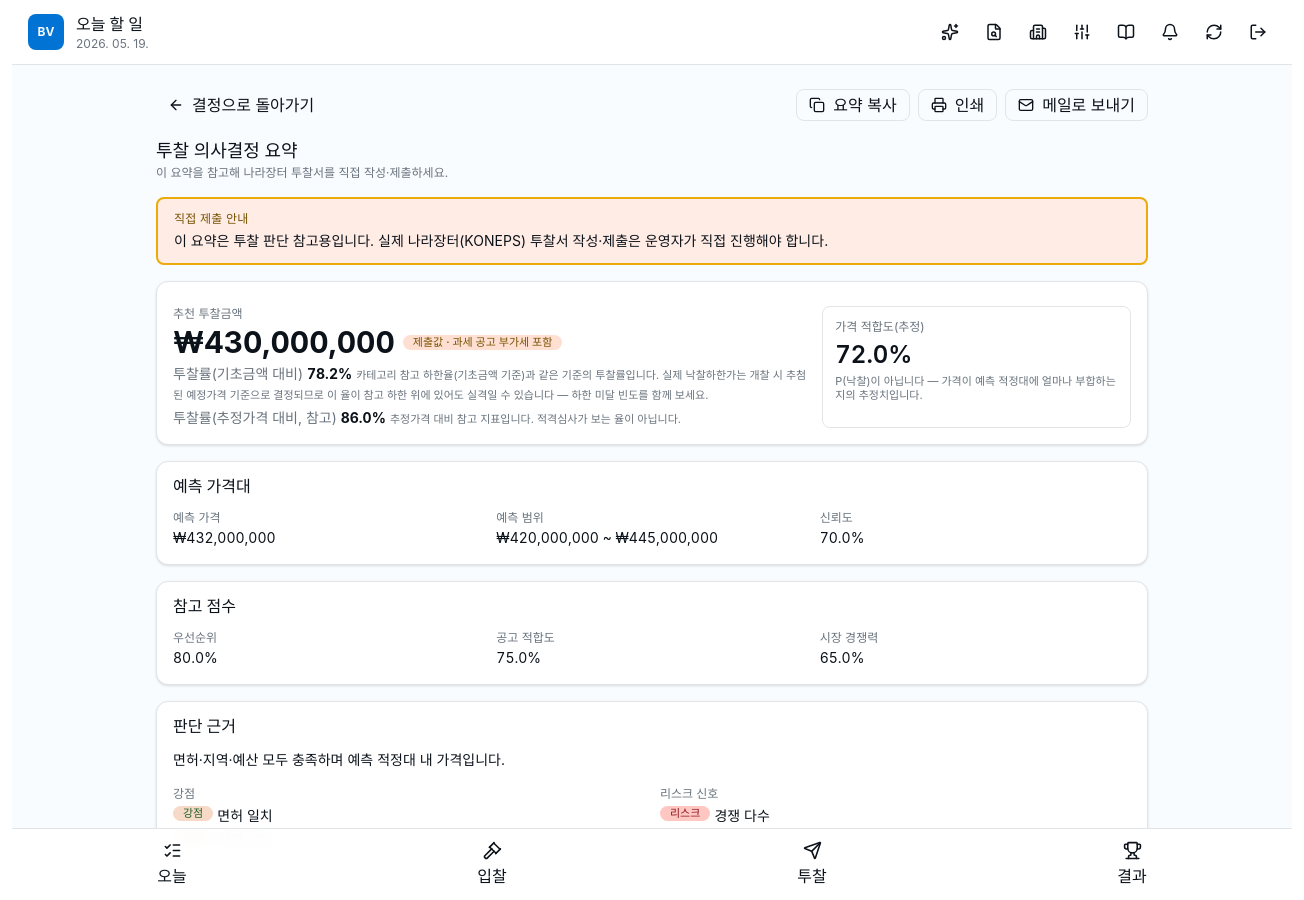
Scenario: BidSummaryScreen › delivery_status=sent 이고 dry_run=false 이면 '메일을 보냈습니다' 성공 토스트를 표시한다
The image size is (1304, 900).
Click the button "메일로 보내기": (1077, 105) [1005, 89, 1148, 121]
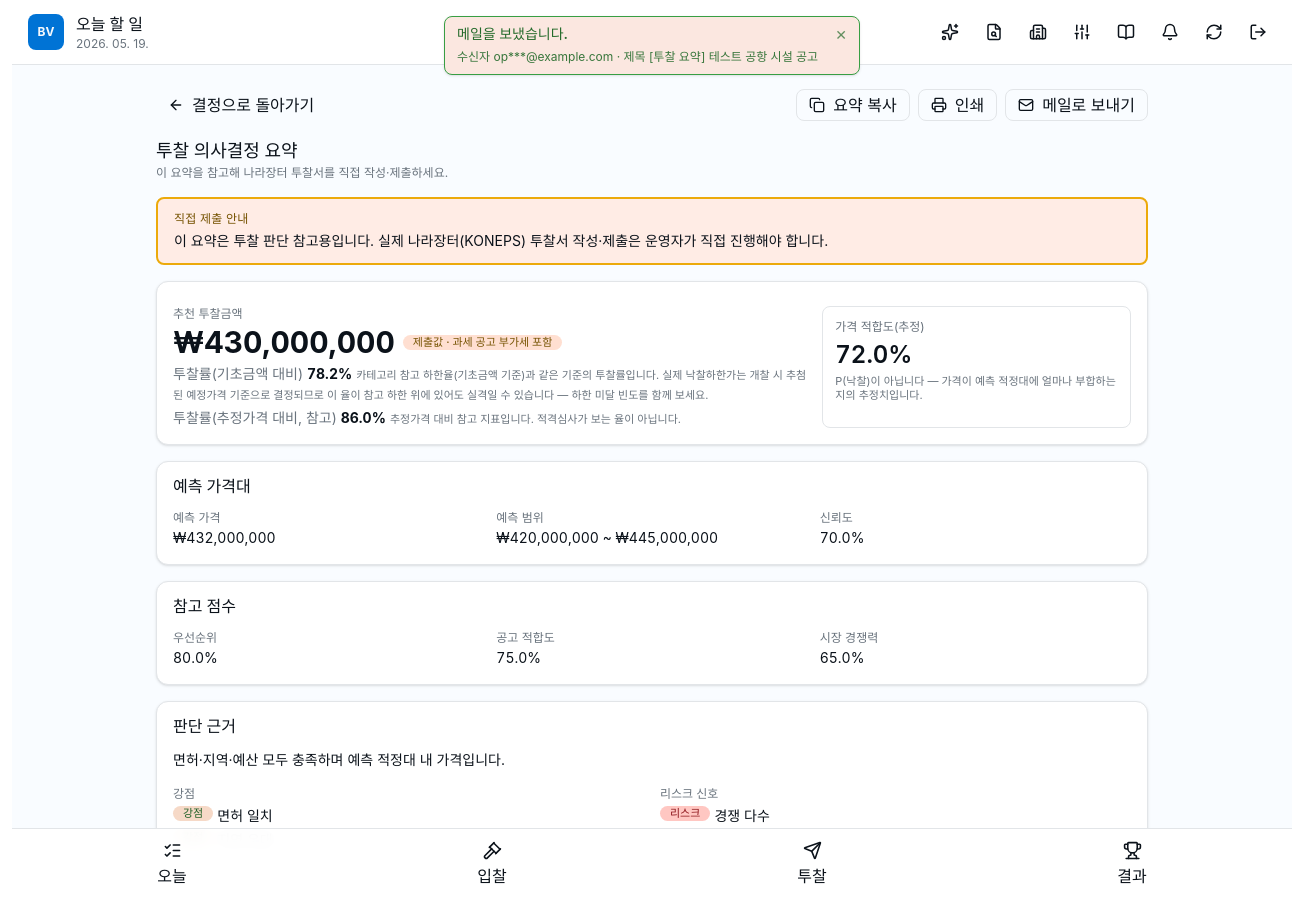
Now the message "메일을 보냈습니다. ✕ 수신자 op***@example.com · 제목 [투찰 요약] 테스트 공항 시설 공고" is shown, box [444, 16, 860, 74]
